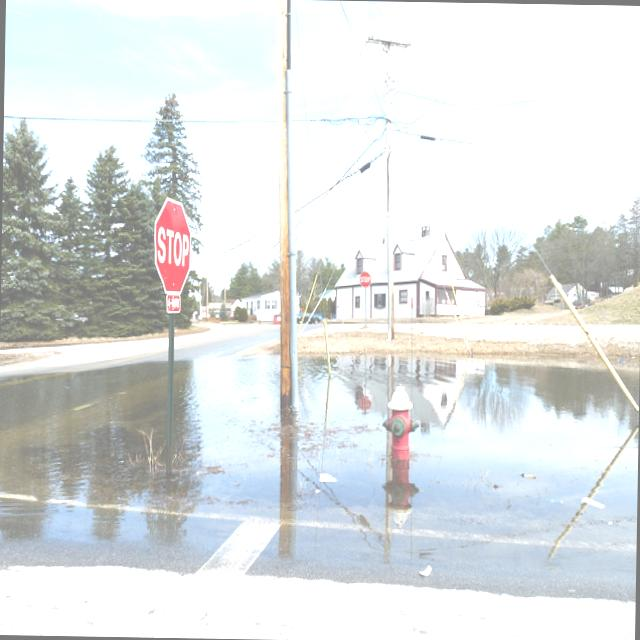Vehicle: (295, 312, 321, 324)
